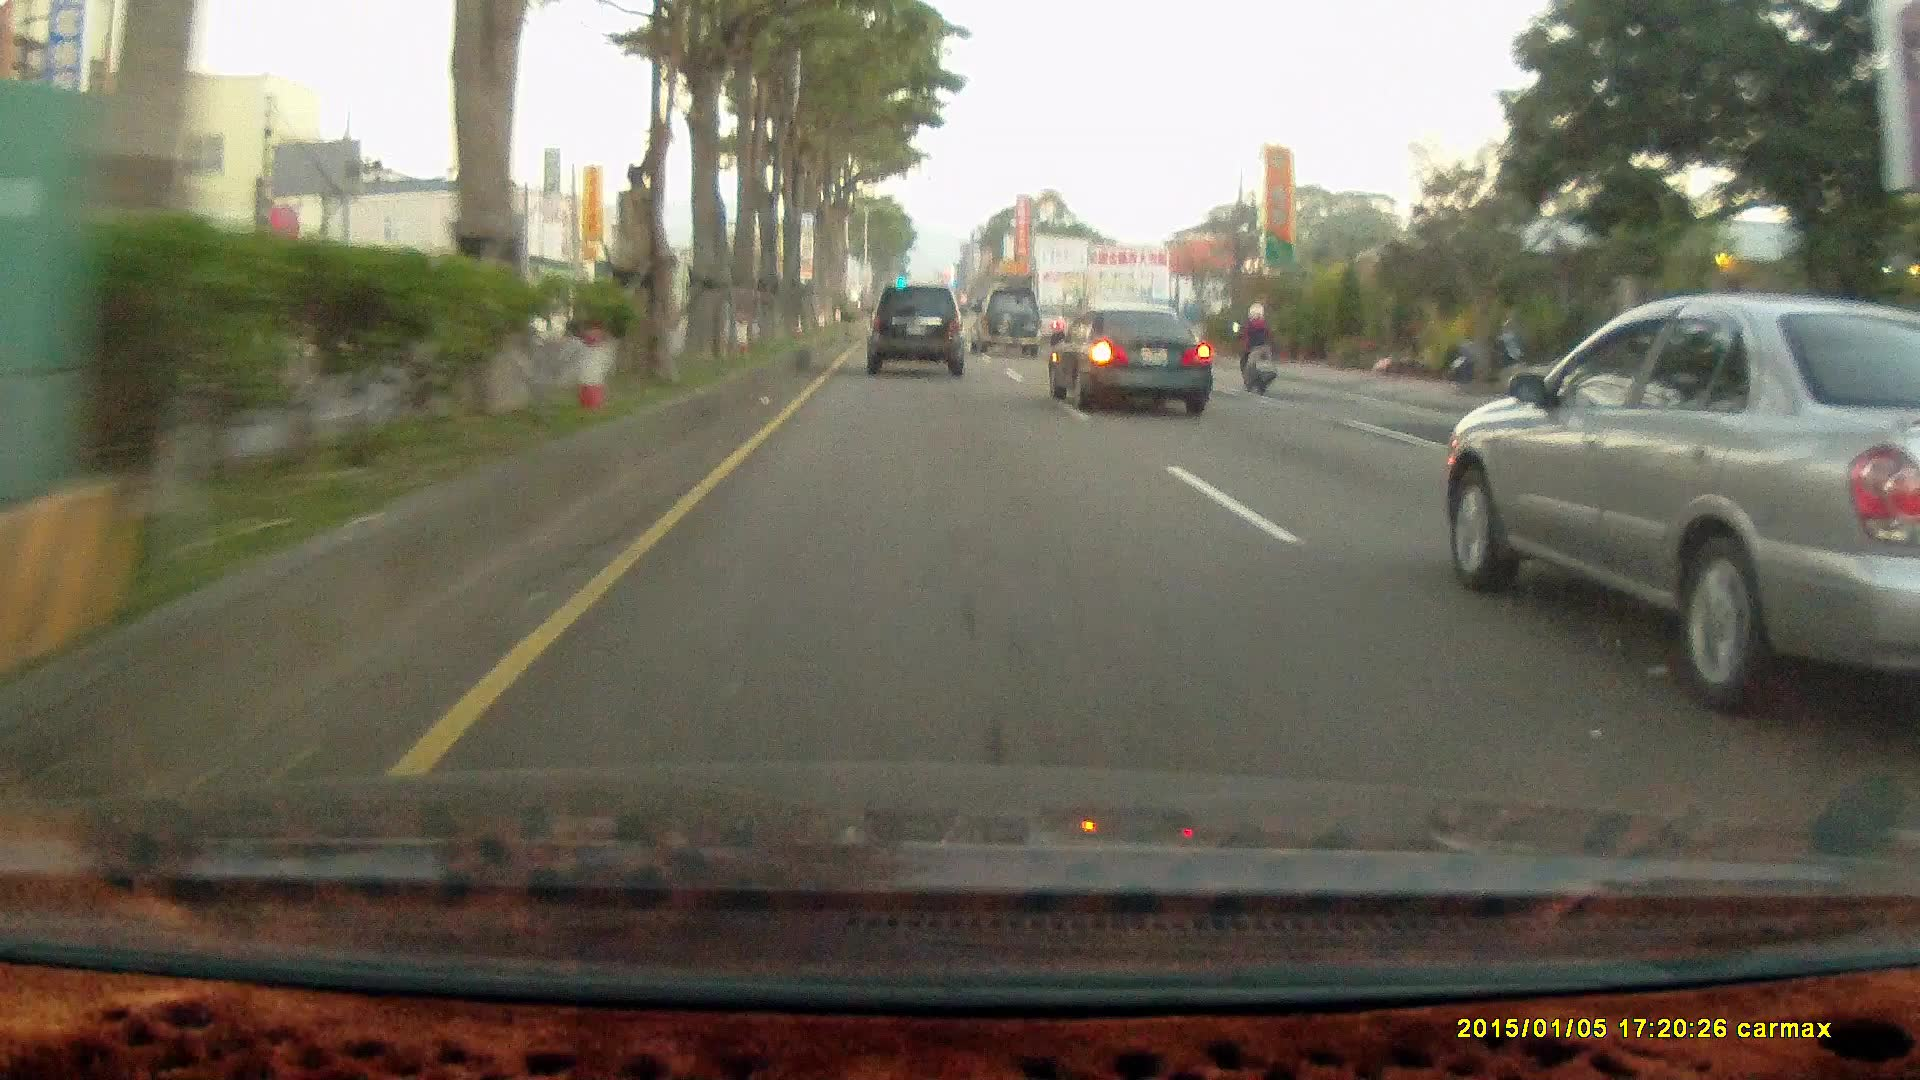rider: (1226, 294, 1288, 404), (1230, 294, 1281, 392)
vehicle: (1446, 297, 1915, 720), (1047, 301, 1218, 413), (1046, 303, 1212, 415), (865, 279, 974, 380), (861, 284, 962, 375), (973, 282, 1046, 354), (971, 287, 1040, 354)
